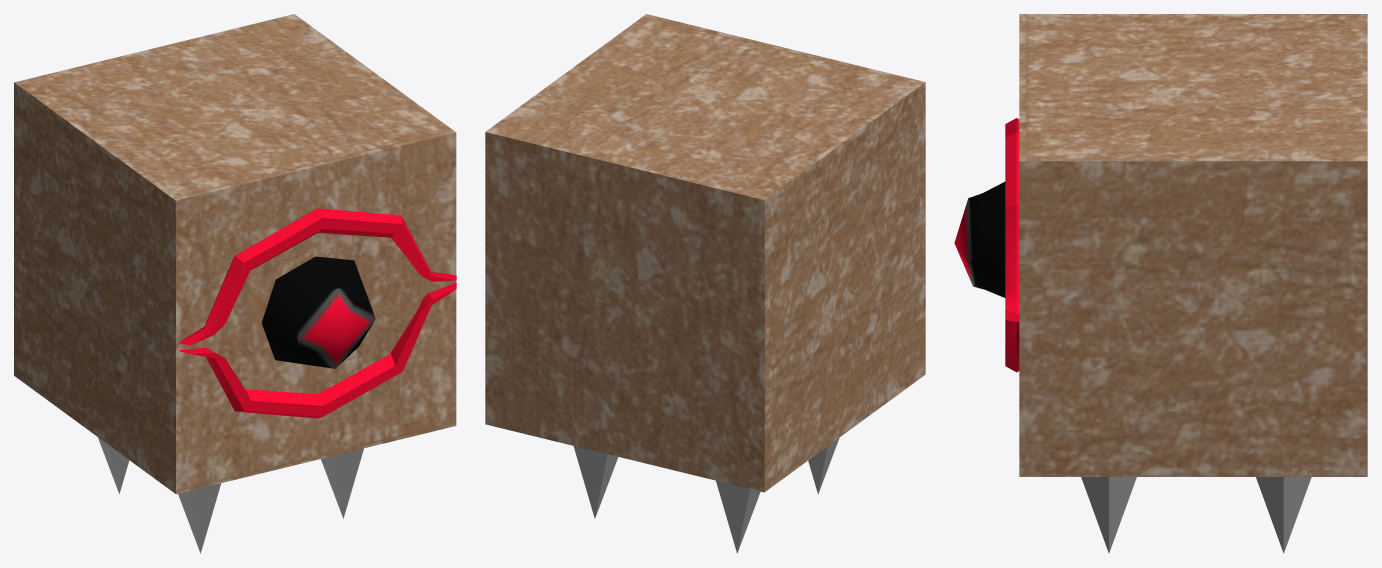
File: enemi_A_model.fbx
The picture shows the model from 3 angles, left to right: view 1: azimuth 30°, elevation 25°; view 2: azimuth 150°, elevation 25°; view 3: azimuth 270°, elevation 25°; orthographic projection. The views are drawn at different scales.
Visible parts, largest first — view 1: pCube4, pasted__pTorus1, pasted__pCube1, pasted__pTorus7, pasted__pTorus6, pasted__pTorus5; view 2: pCube4, pasted__pTorus8, pasted__pTorus5, pasted__pTorus6; view 3: pCube4, pasted__pCube1, pasted__pTorus1, pasted__pTorus7, pasted__pTorus8.
Boxes of the visible parts, bbox=[...] form: pCube4: bbox=[14, 14, 456, 494]; pasted__pTorus1: bbox=[179, 208, 456, 418]; pasted__pCube1: bbox=[261, 256, 375, 368]; pasted__pTorus7: bbox=[321, 448, 363, 518]; pasted__pTorus6: bbox=[178, 483, 220, 553]; pasted__pTorus5: bbox=[98, 437, 129, 493]; pCube4: bbox=[485, 14, 925, 492]; pasted__pTorus8: bbox=[573, 446, 618, 518]; pasted__pTorus5: bbox=[716, 480, 760, 553]; pasted__pTorus6: bbox=[808, 438, 839, 494]; pCube4: bbox=[1019, 14, 1367, 476]; pasted__pCube1: bbox=[954, 182, 1005, 297]; pasted__pTorus1: bbox=[1005, 118, 1019, 372]; pasted__pTorus7: bbox=[1081, 477, 1136, 553]; pasted__pTorus8: bbox=[1256, 477, 1311, 553].
Bounding box in the file's own units: 100 × 136 × 119.
